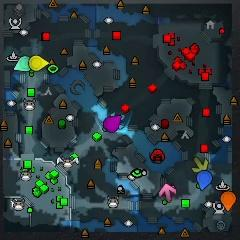p1: (197, 170, 212, 191)
p2: (14, 56, 31, 71)
p3: (104, 115, 122, 133)
p4: (29, 55, 49, 70)
p5: (220, 192, 236, 212)
x1: (159, 183, 176, 201)
x2: (192, 157, 208, 171)
x3: (110, 112, 125, 129)
